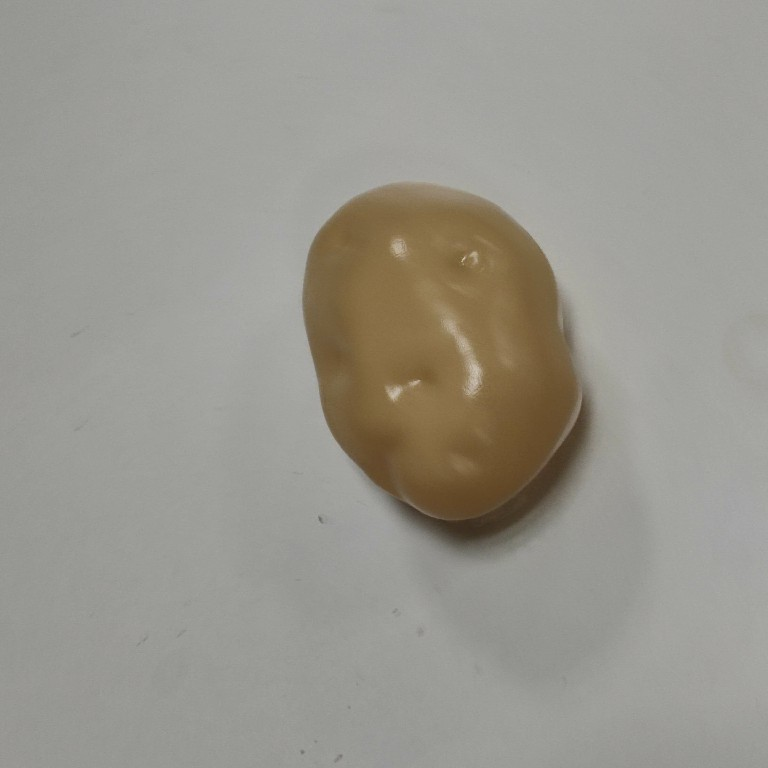fruit_potato: (292, 174, 594, 531)
